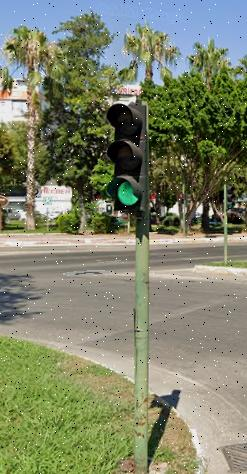greenlight: (107, 101, 150, 213)
